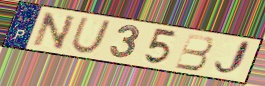3: (108, 24, 142, 60)
5: (142, 27, 181, 66)
B: (173, 32, 214, 72)
J: (211, 39, 253, 78)
N: (31, 11, 79, 52)
U: (68, 16, 113, 55)
